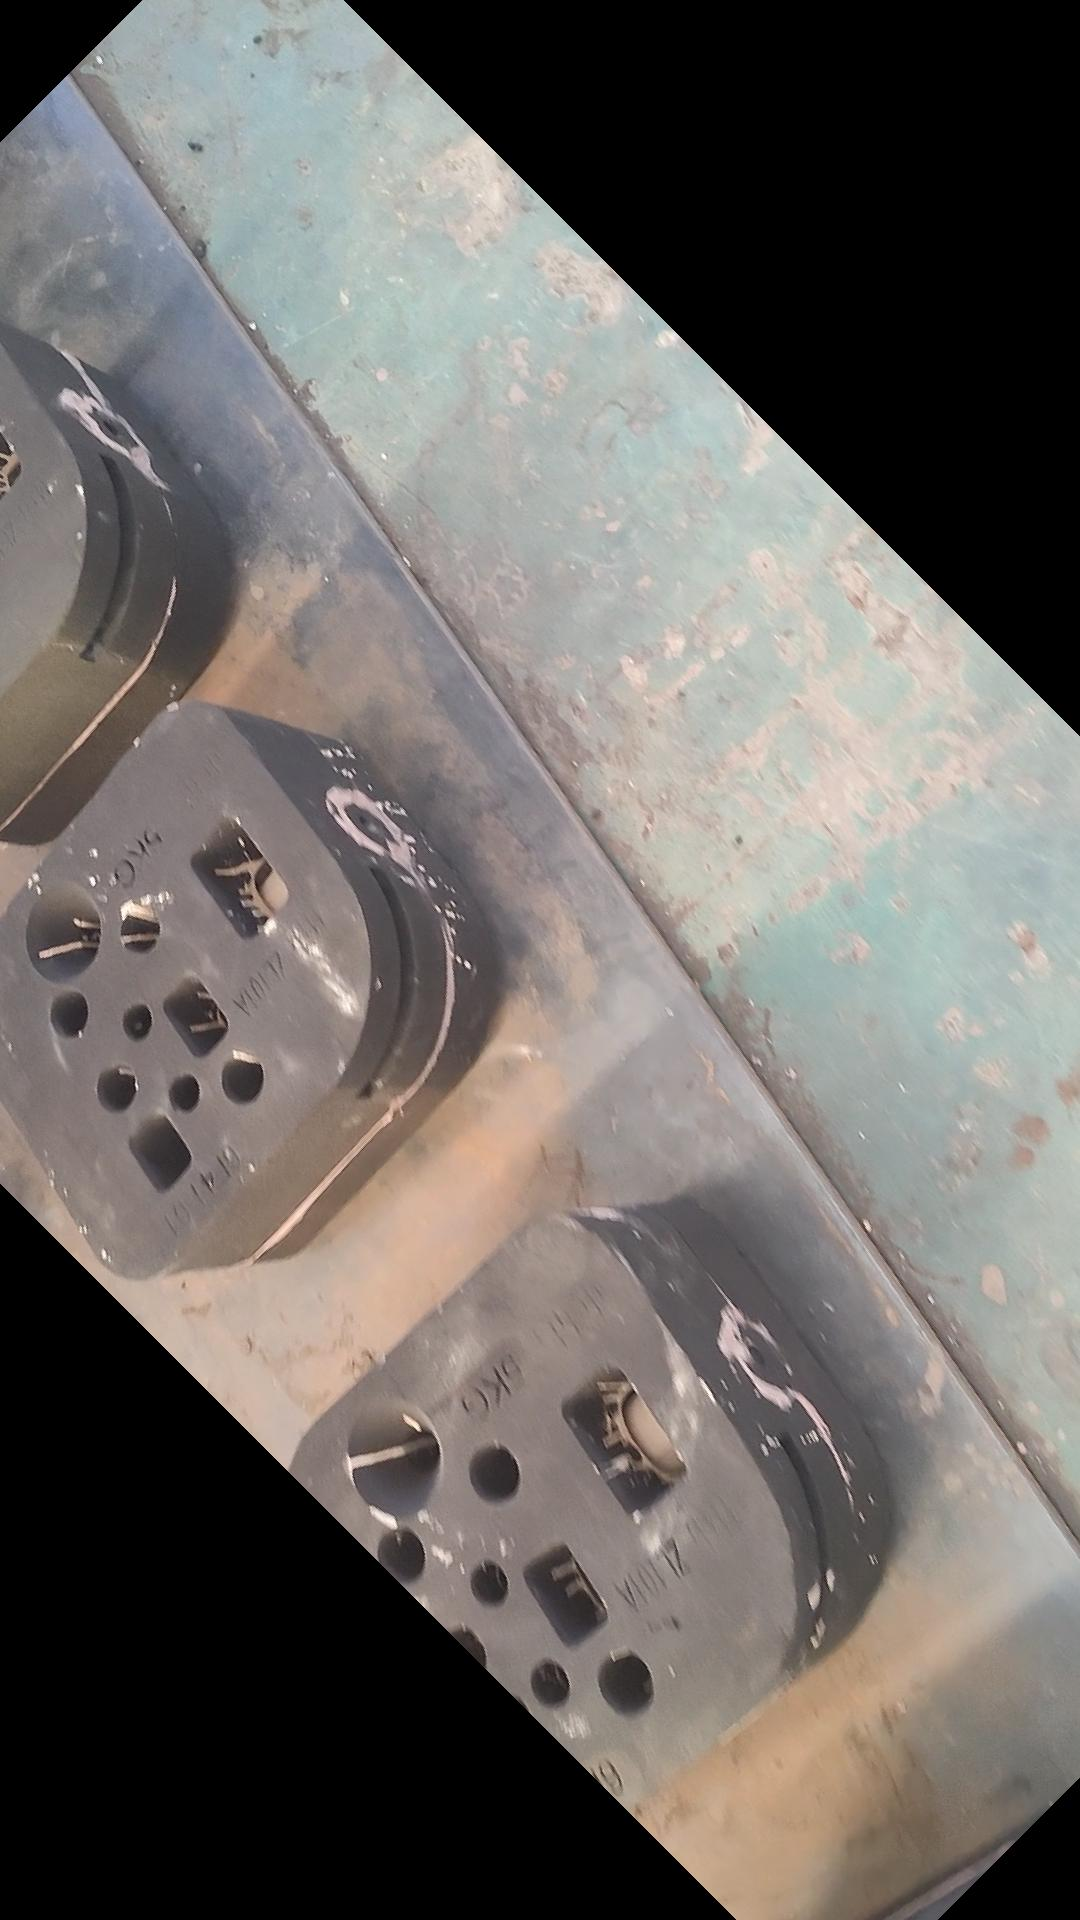pouring hole: (342, 1394, 443, 1524), (20, 884, 104, 986)
